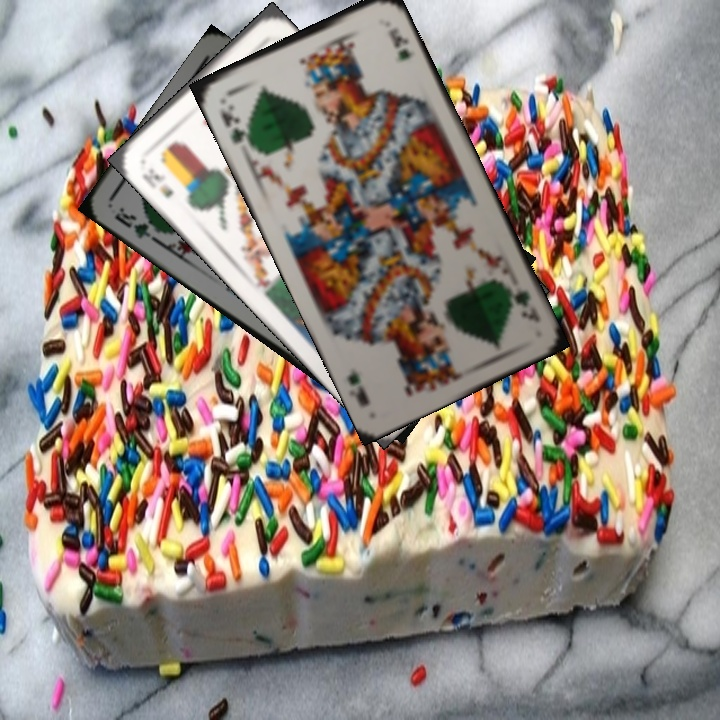EK: (137, 164, 176, 201)
GK: (110, 203, 165, 244), (216, 99, 255, 149), (502, 281, 543, 326)
